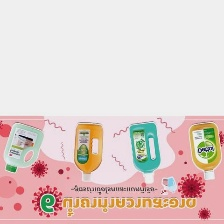cleaning_solution: (1, 120, 45, 175), (183, 121, 222, 183), (126, 120, 162, 185), (70, 120, 104, 184)
